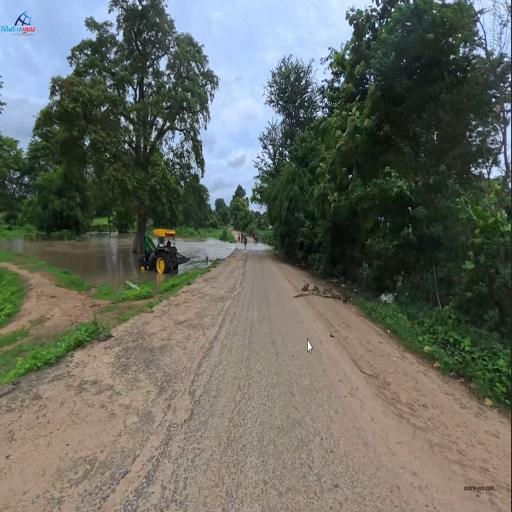edge_damage: (168, 373, 210, 447), (113, 447, 154, 493), (213, 307, 232, 344)
